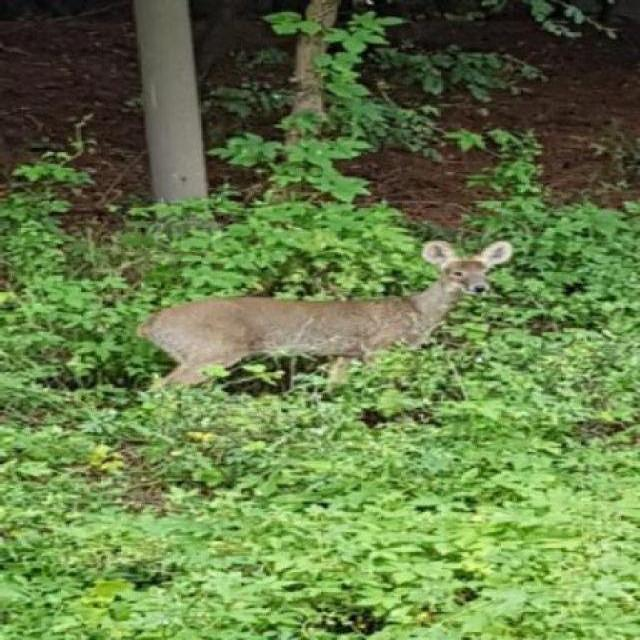deer: (139, 236, 524, 392)
